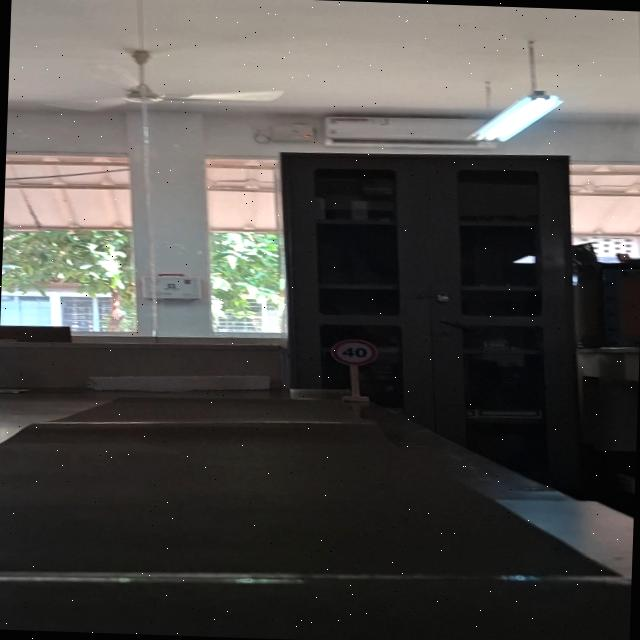Speed40: (328, 336, 379, 367)
